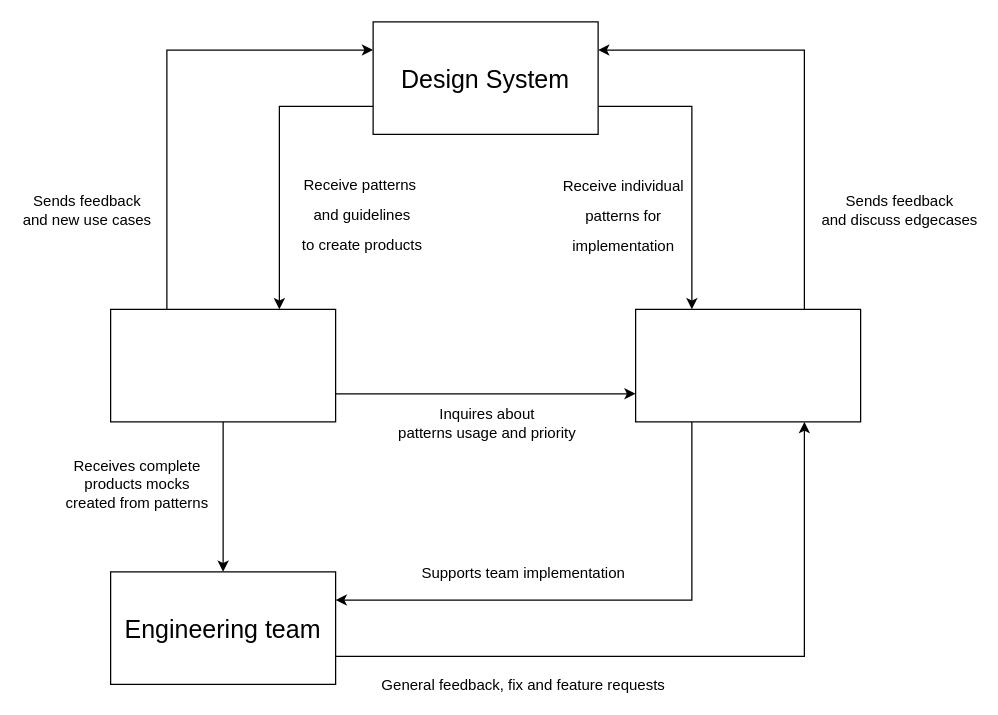
This 998x715 diagram has some shape labels left out. Each missing label, with the box of its shape:
Design Delivery: (109, 308, 336, 422)
UI-Kit: (634, 308, 861, 422)
